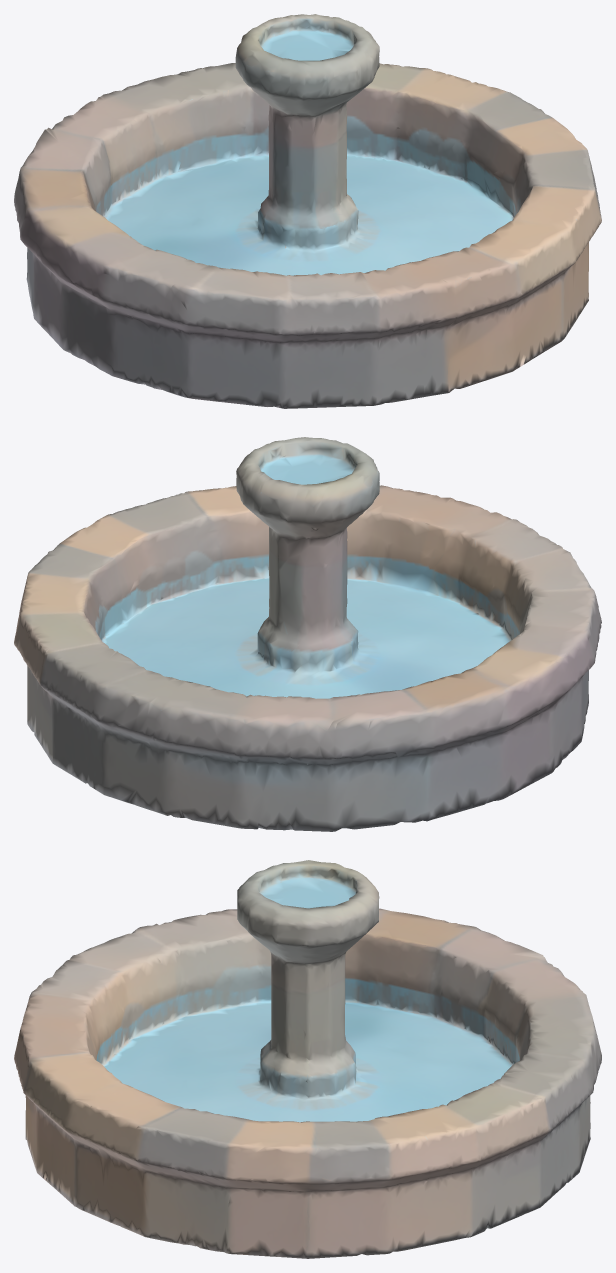
Rendered from fountain.glb.
The picture shows the model from 3 angles, top to bottom: view 1: azimuth 30°, elevation 25°; view 2: azimuth 150°, elevation 25°; view 3: azimuth 270°, elevation 25°; orthographic projection.
Parts seen in each view (by area): view 1: model; view 2: model; view 3: model.
Part boxes in pixels (box(x1,y1,x2,y2)): model: box(14, 14, 601, 408); model: box(14, 437, 601, 831); model: box(14, 860, 601, 1258).
Size of the model in its own units: 1.9 by 0.8985 by 1.9.
1 material, 1 textured.
